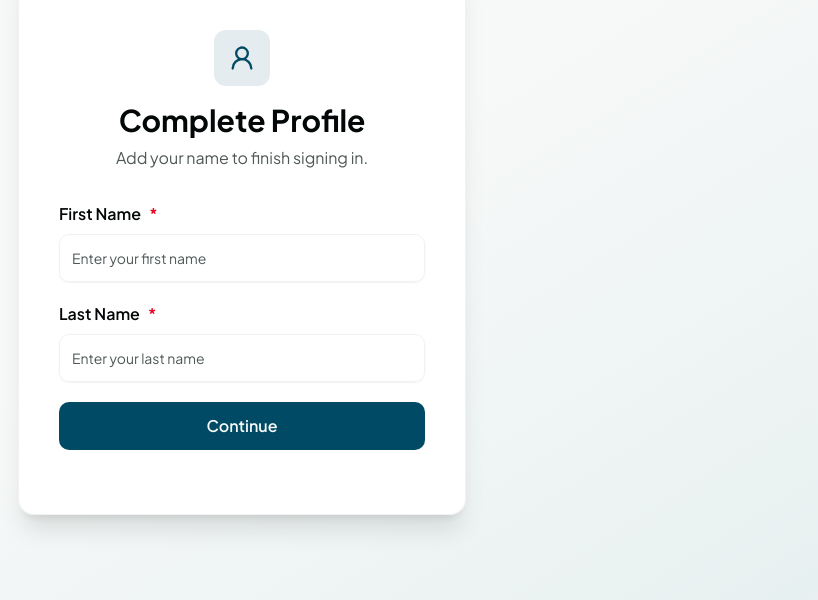
Scenario: CompleteProfilePage › shows error on blur when first name is empty
The image size is (818, 600).
Click the field labelled "First Name *" at (242, 258), box [59,234,425,282]
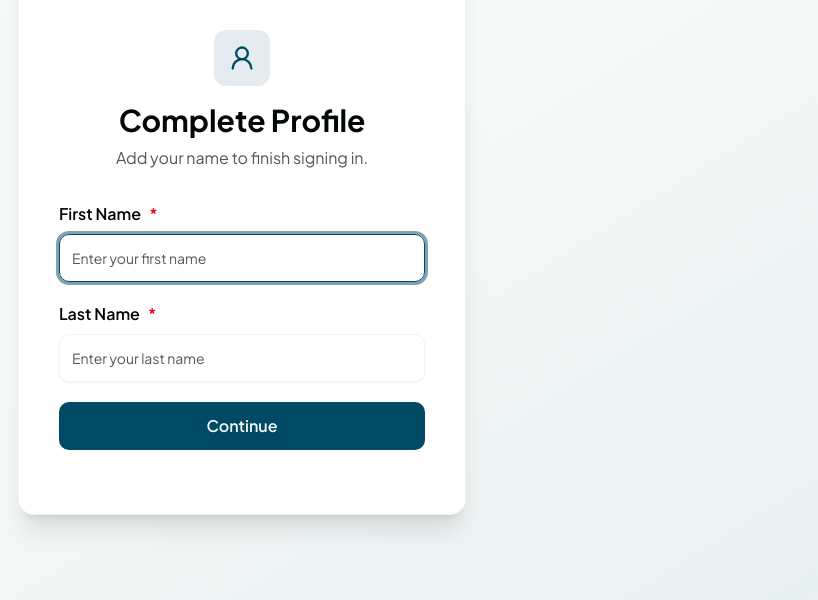
Press Tab
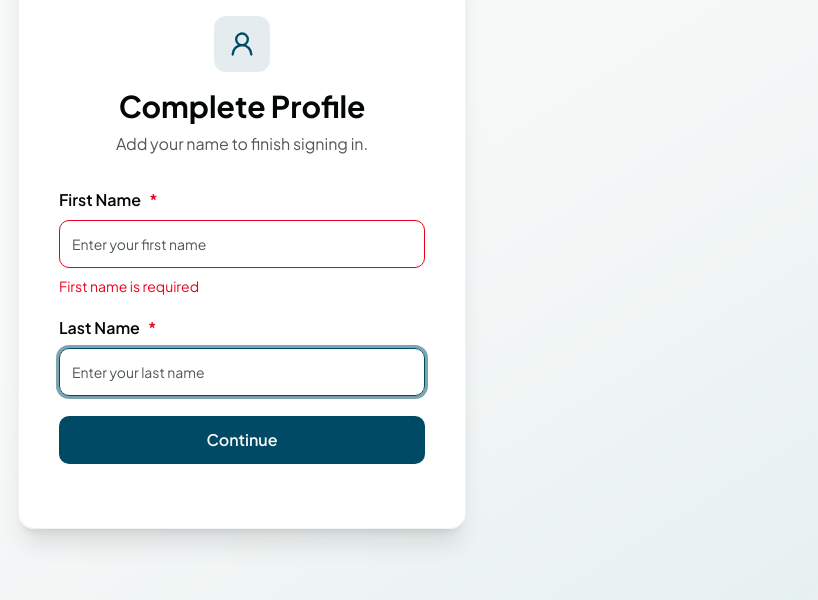
Expected: the text "First name is required" is shown, [59,277,199,295]
